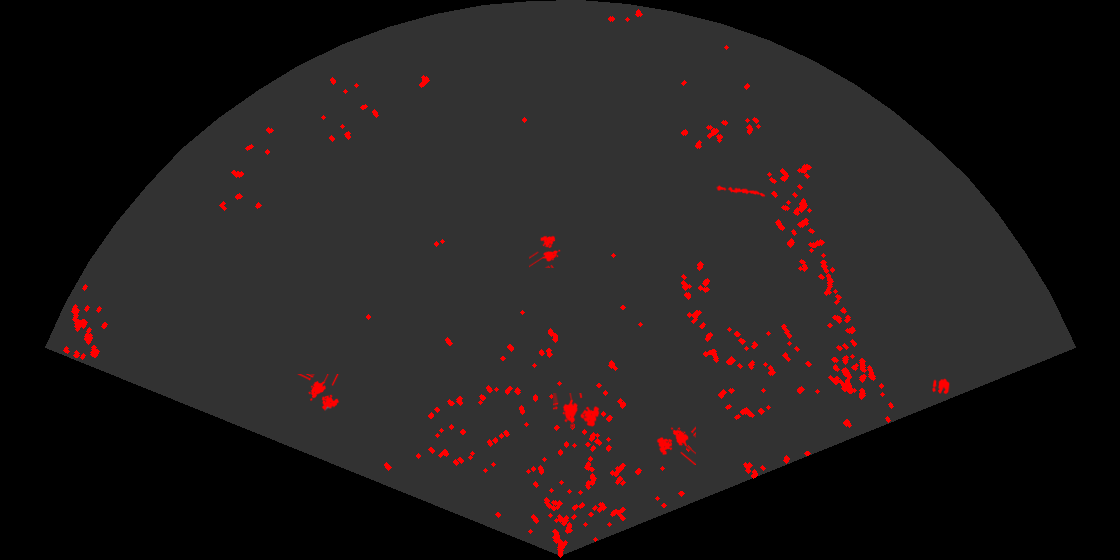ball: (931, 377, 951, 396)
cage: (553, 393, 601, 429), (296, 374, 341, 412), (655, 425, 696, 465), (529, 234, 562, 268)
chain: (716, 183, 767, 199)
